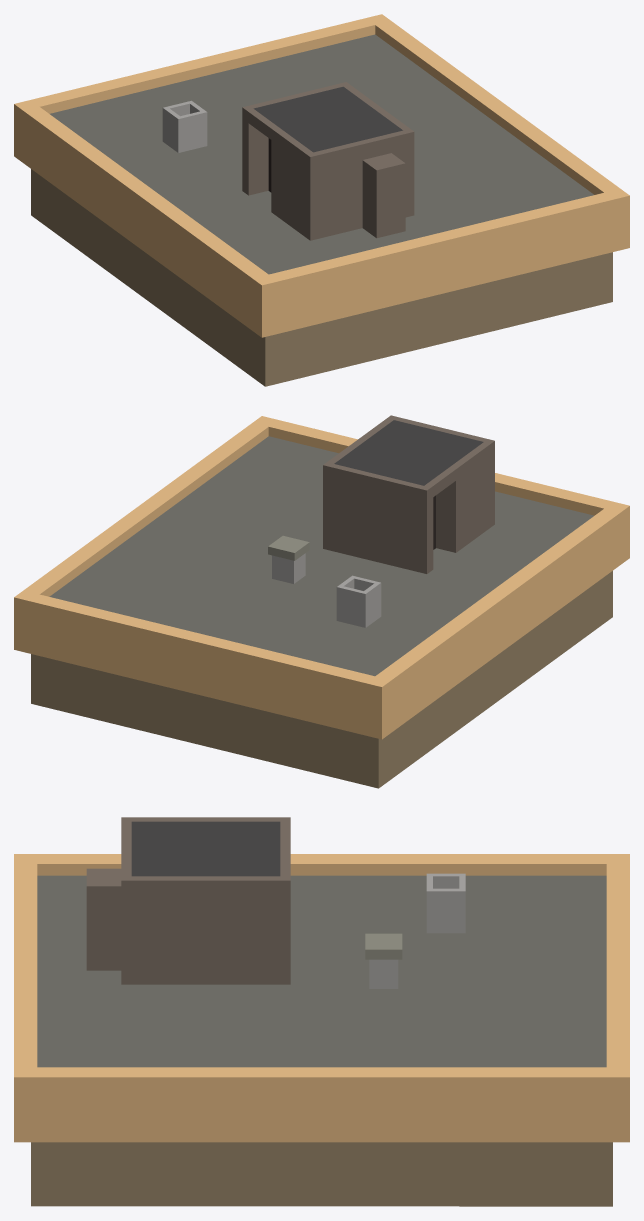
The model's file is building2_top.fbx.
The picture shows the model from 3 angles, top to bottom: view 1: azimuth 30°, elevation 25°; view 2: azimuth 150°, elevation 25°; view 3: azimuth 270°, elevation 25°; orthographic projection. The views are drawn at different scales.
Visible parts, largest first — view 1: building2_top; view 2: building2_top; view 3: building2_top.
Boxes of the visible parts, x1=… form: building2_top: x1=14, y1=14, x2=629, y2=386; building2_top: x1=14, y1=415, x2=629, y2=788; building2_top: x1=14, y1=817, x2=629, y2=1206.
Bounding box in the file's own units: 600 × 285 × 700.
